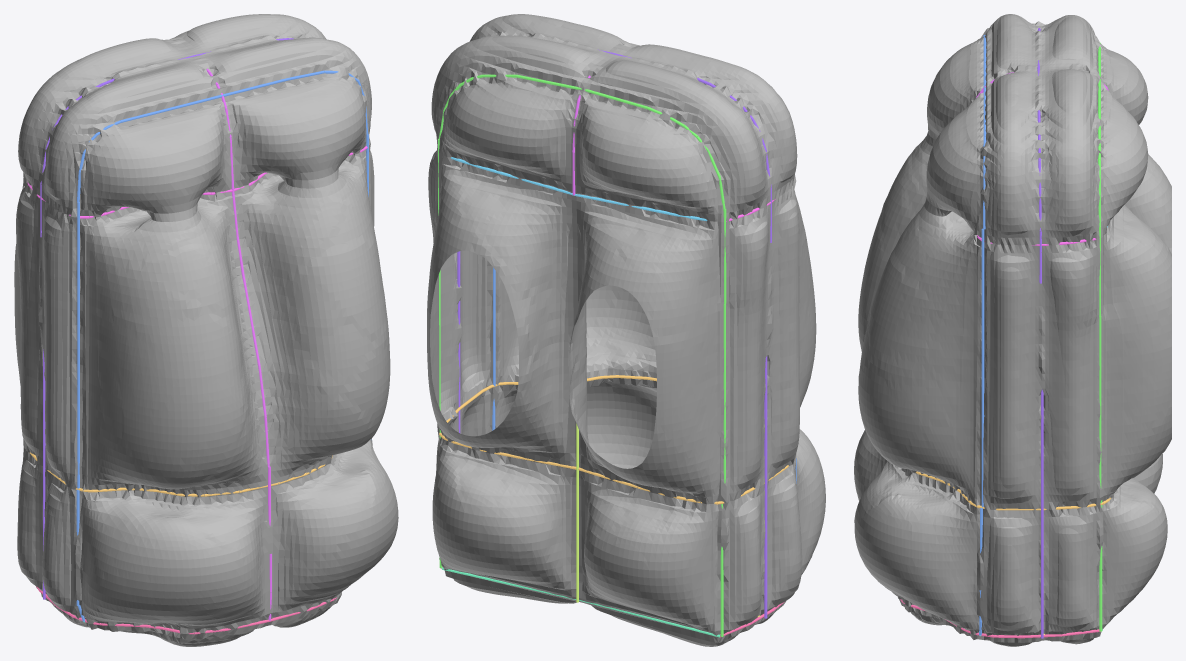
The picture shows the model from 3 angles, left to right: view 1: azimuth 30°, elevation 25°; view 2: azimuth 150°, elevation 25°; view 3: azimuth 270°, elevation 25°; orthographic projection. The views are drawn at different scales.
Bounding box in the file's own units: 0.5367 × 0.8552 × 0.4595.
